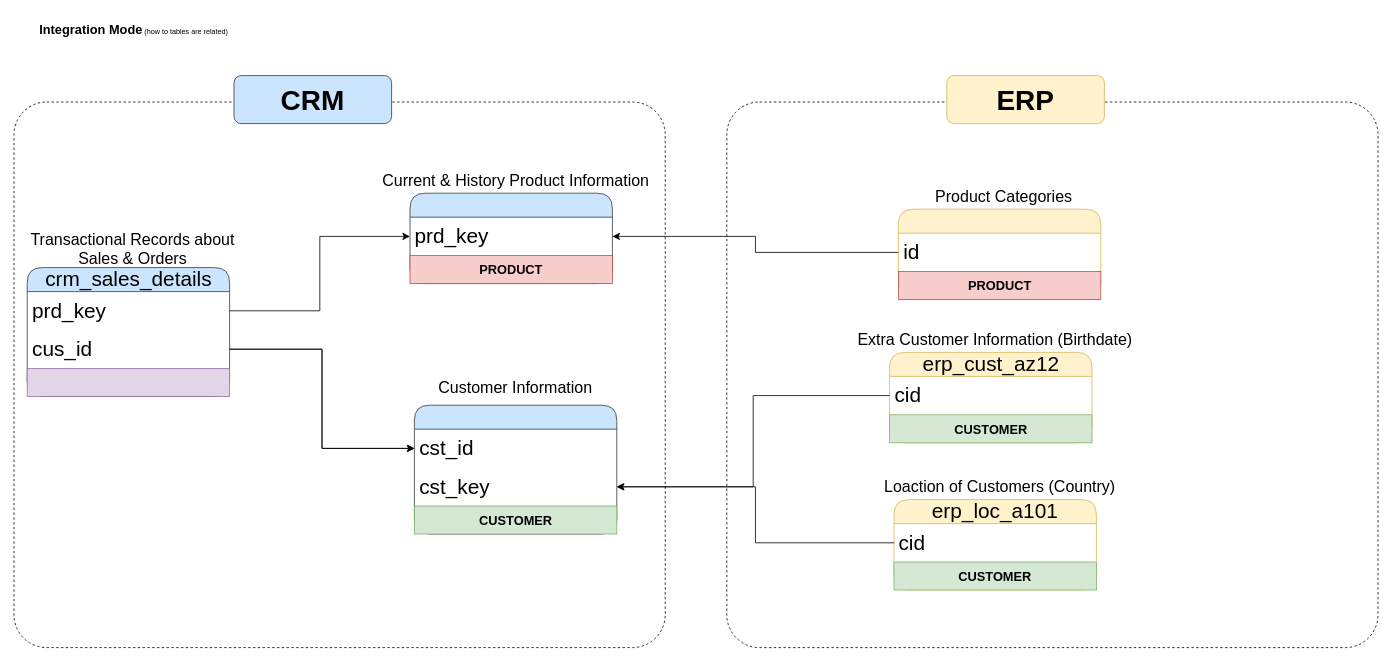
Image size: 1392x662. Some labels were removed from this diagram. The box of each missing label's shape, as (x1, y1, x2, y2) in pixels:
crm_cust_info: (414, 404, 617, 534)
crm_prd_info: (409, 192, 612, 284)
erp_px_cat_g1vs2: (898, 208, 1101, 300)
SALES: (26, 368, 230, 396)
